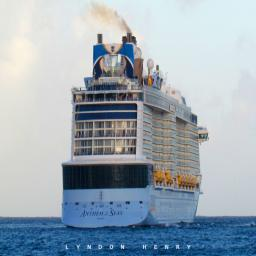cruises: (61, 32, 211, 233)
